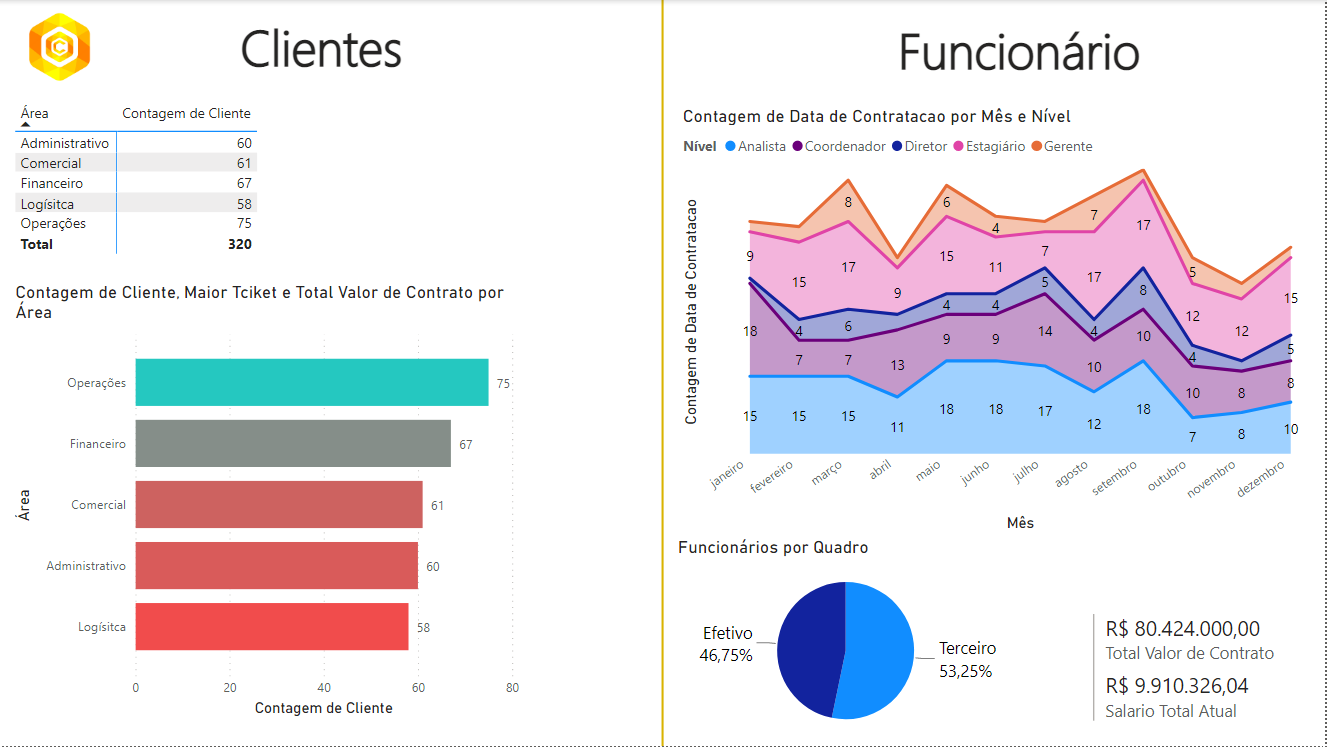

This screenshot's page, from the dashboard's own definition file:
{"tool":"powerbi","page":{"name":"Resumo Geral","canvas":[1280,720],"ordinal":0},"visuals":[{"type":"image","box":[10.3,0,92.5,92.5],"z":0},{"type":"shape","box":[524.3,0,231.3,719.7],"z":1000},{"type":"pivotTable","fields":{"Rows":["BaseCargos.Área"],"Values":["Count(BaseClientes.Cliente)"]},"box":[10.4,92.6,249.2,165.7],"z":2000},{"type":"barChart","fields":{"Y":["CountNonNull(BaseClientes.Cliente)"],"Category":["BaseCargos.Área"]},"box":[10.4,271.4,495.8,425.4],"z":3000},{"type":"textbox","box":[210.1,7.8,202.2,75.7],"z":4000},{"type":"textbox","box":[837.7,9.1,292.3,74.4],"z":5000},{"type":"stackedAreaChart","fields":{"Category":["BaseFuncionarios.Data de Contratacao.Variation.Hierarquia de datas.Ano","BaseFuncionarios.Data de Contratacao.Variation.Hierarquia de datas.Trimestre","BaseFuncionarios.Data de Contratacao.Variation.Hierarquia de datas.Mês","BaseFuncionarios.Data de Contratacao.Variation.Hierarquia de datas.Dia"],"Y":["CountNonNull(BaseFuncionarios.Data de Contratacao)"],"Series":["BaseCargos.Nível"]},"box":[655.4,101.5,615.6,416.4],"z":6000},{"type":"multiRowCard","fields":{"Values":["BaseClientes.Total Valor de Contrato","BaseFuncionarios.Salario Total Atual"]},"box":[1050,587.3,221,120.8],"z":8000},{"type":"pieChart","title":"Funcionários por Quadro","fields":{"Y":["CountNonNull(BaseFuncionarios.Nome)"],"Category":["BaseCargos.Quadro"]},"box":[650.3,517.9,334.1,201.8],"z":9000}]}

Visuals, with their boxes in screenshot pixels (x1, y1, x2, y2), scaled from the page's 1280x720 canvas onto the 1327x747 screenshot:
image: <box>11,0,107,96</box>
shape: <box>544,0,783,746</box>
pivotTable - BaseCargos.Área x Count(BaseClientes.Cliente): <box>11,96,269,268</box>
barChart - CountNonNull(BaseClientes.Cliente) x BaseCargos.Área: <box>11,282,525,723</box>
textbox: <box>218,8,427,87</box>
textbox: <box>868,9,1171,87</box>
stackedAreaChart - BaseFuncionarios.Data de Contratacao.Variation.Hierarquia de datas.Ano x BaseFuncionarios.Data de Contratacao.Variation.Hierarquia de datas.Trimestre: <box>679,105,1318,537</box>
multiRowCard - BaseClientes.Total Valor de Contrato x BaseFuncionarios.Salario Total Atual: <box>1089,609,1318,735</box>
"Funcionários por Quadro" pieChart: <box>674,537,1021,746</box>
